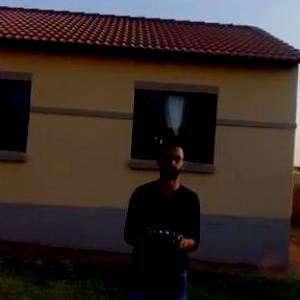follow: (119, 130, 203, 299)
